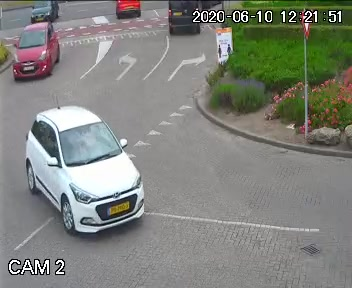car: (21, 103, 147, 237), (9, 18, 62, 84), (165, 0, 200, 37), (112, 0, 153, 17), (28, 0, 66, 17)
